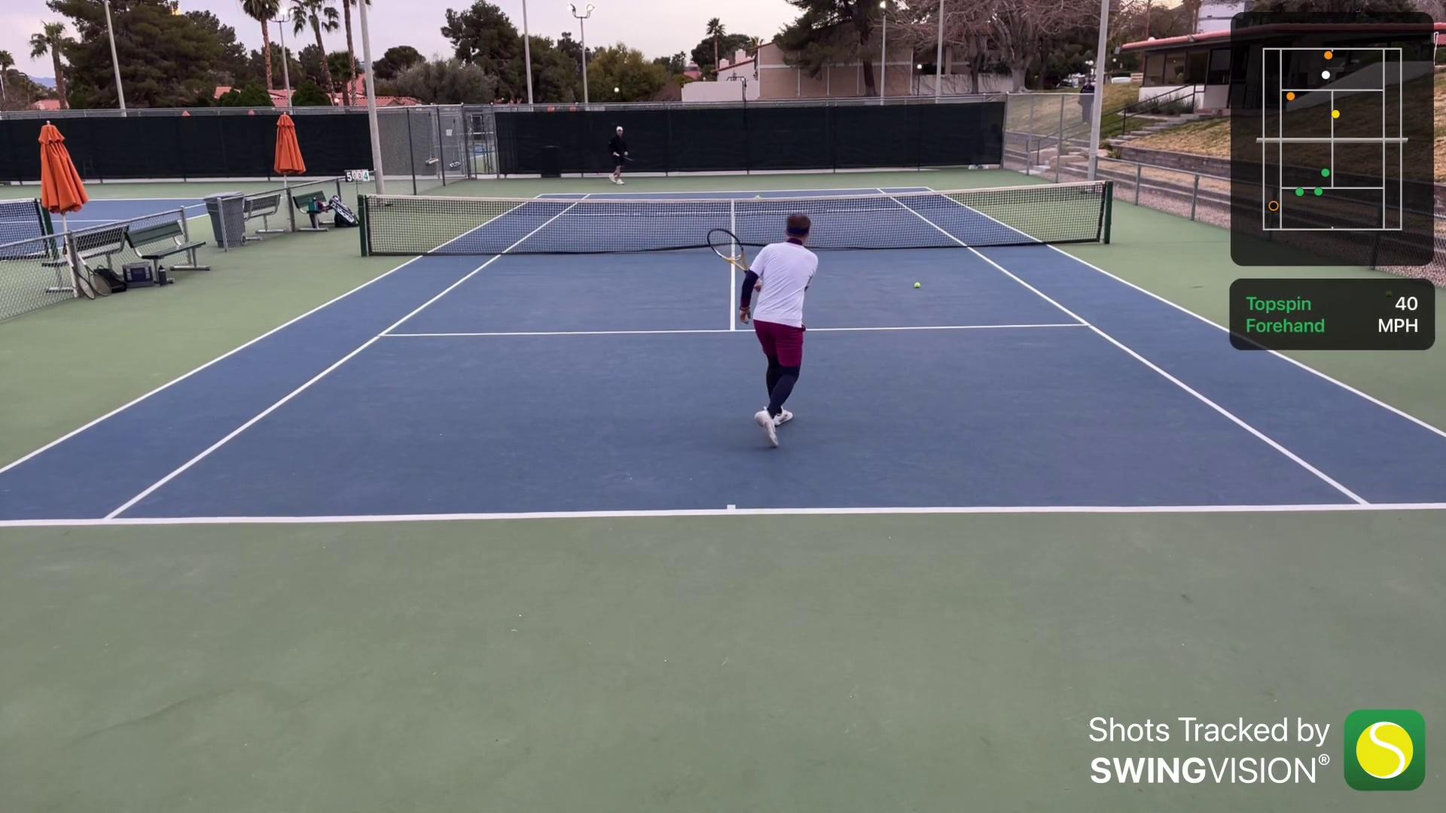ball: (912, 281, 921, 293), (753, 196, 763, 201)
